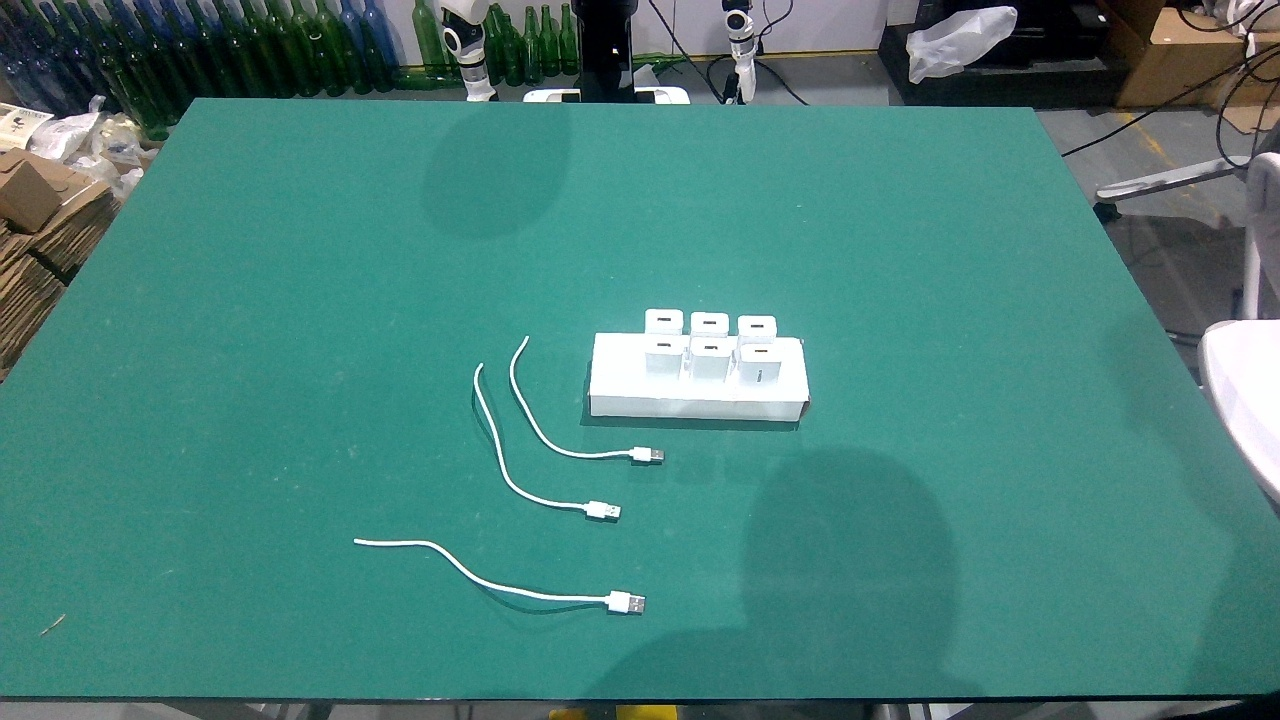usb_a_port: (655, 341, 673, 349), (702, 319, 719, 327), (702, 344, 719, 352), (656, 316, 673, 323), (749, 323, 766, 330), (753, 348, 769, 355)
